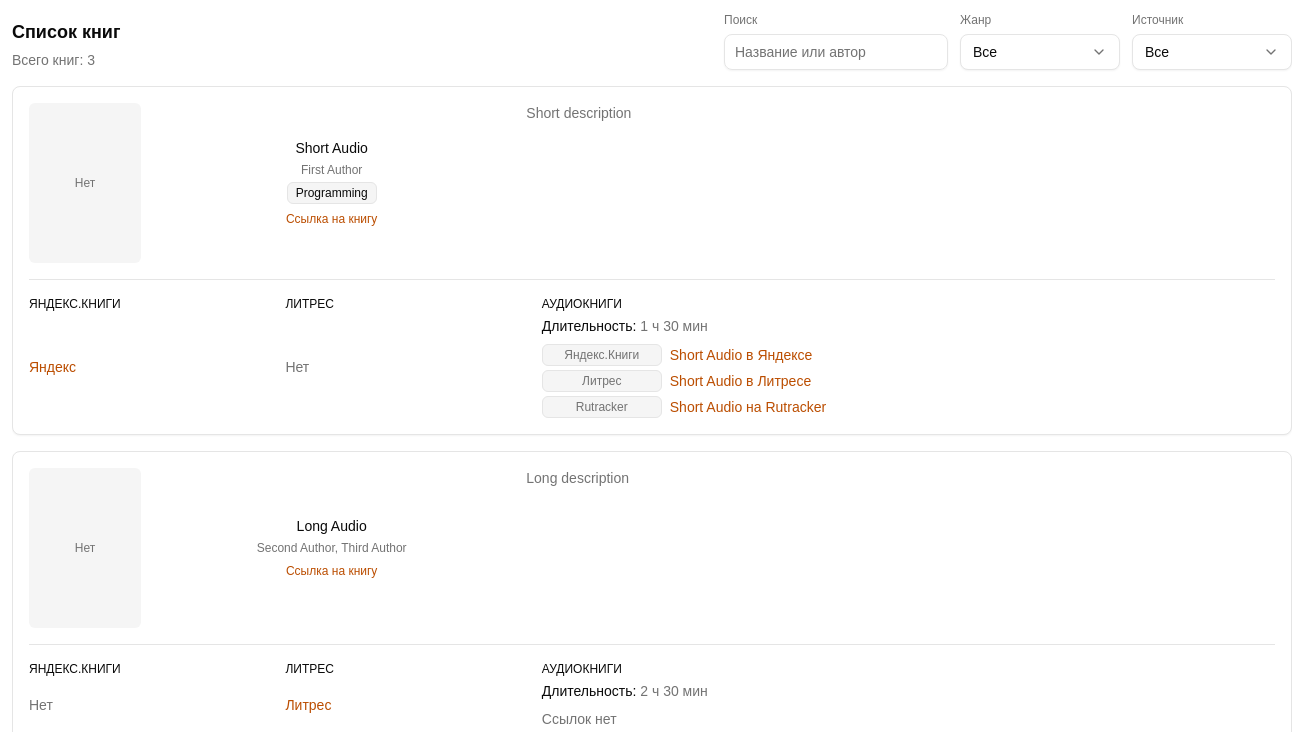
Scenario: DataTable › searches book cards by title and author
The image size is (1304, 732).
Type "Second Author" into the field labelled "Поиск" at point(836, 52), box x1=724 y1=34 x2=948 y2=70
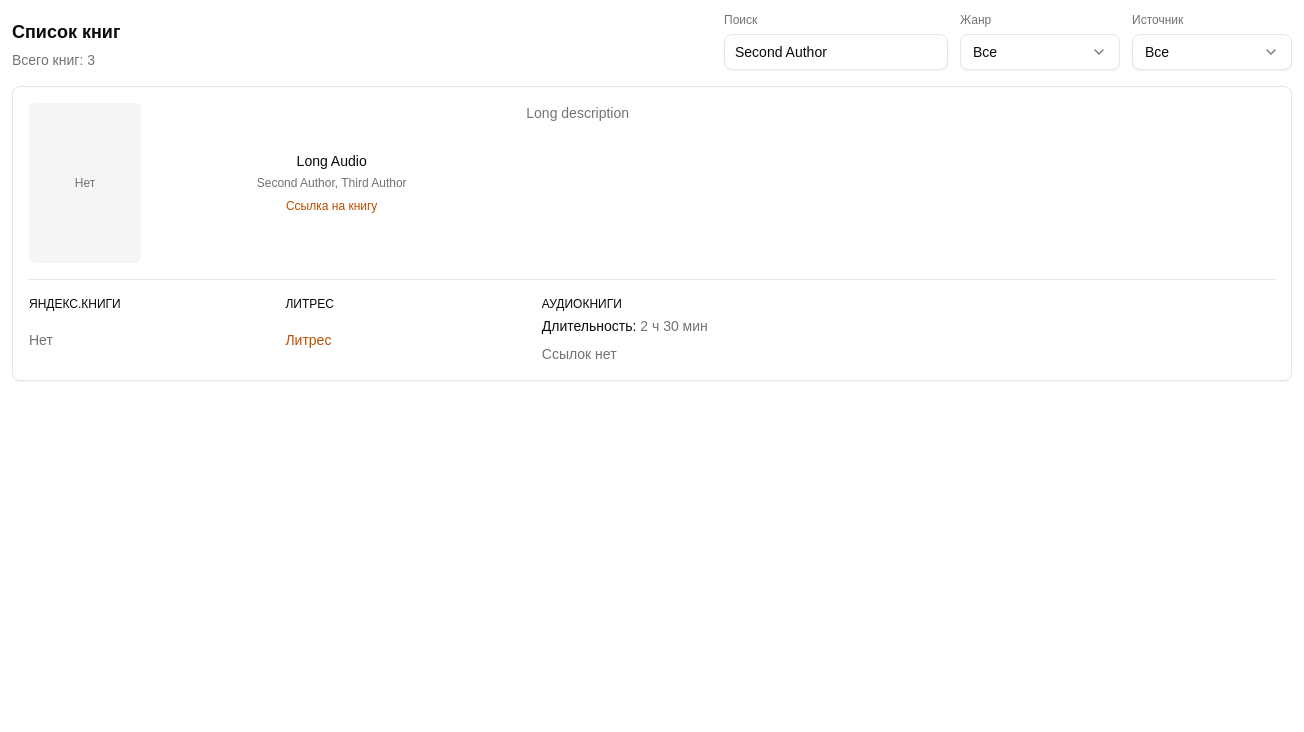
expect the text "Long Audio" is shown: met, box x1=297 y1=153 x2=367 y2=169
expect the text "Short Audio" is gone: met
